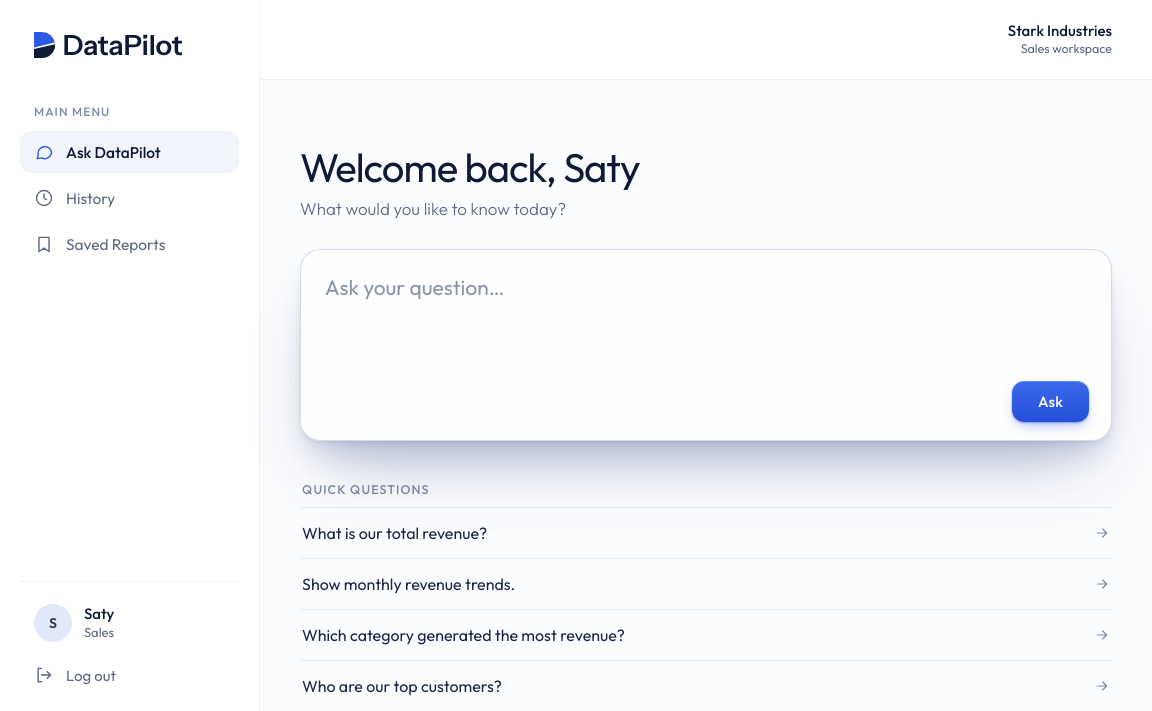
the list › groups rows by local day in display order, keeping the backend order inside each group
Click the button "History" at x=130, y=198, box [20,177,239,219]
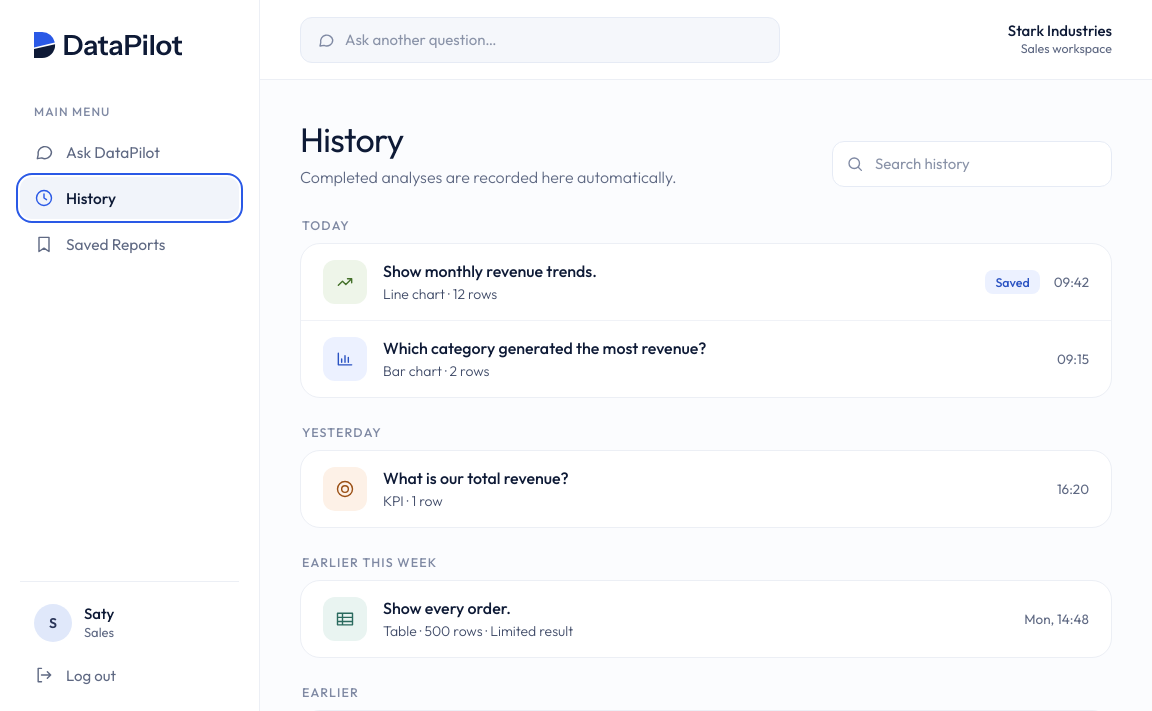
Result: the heading "History" is shown at [300,118,404,161]
